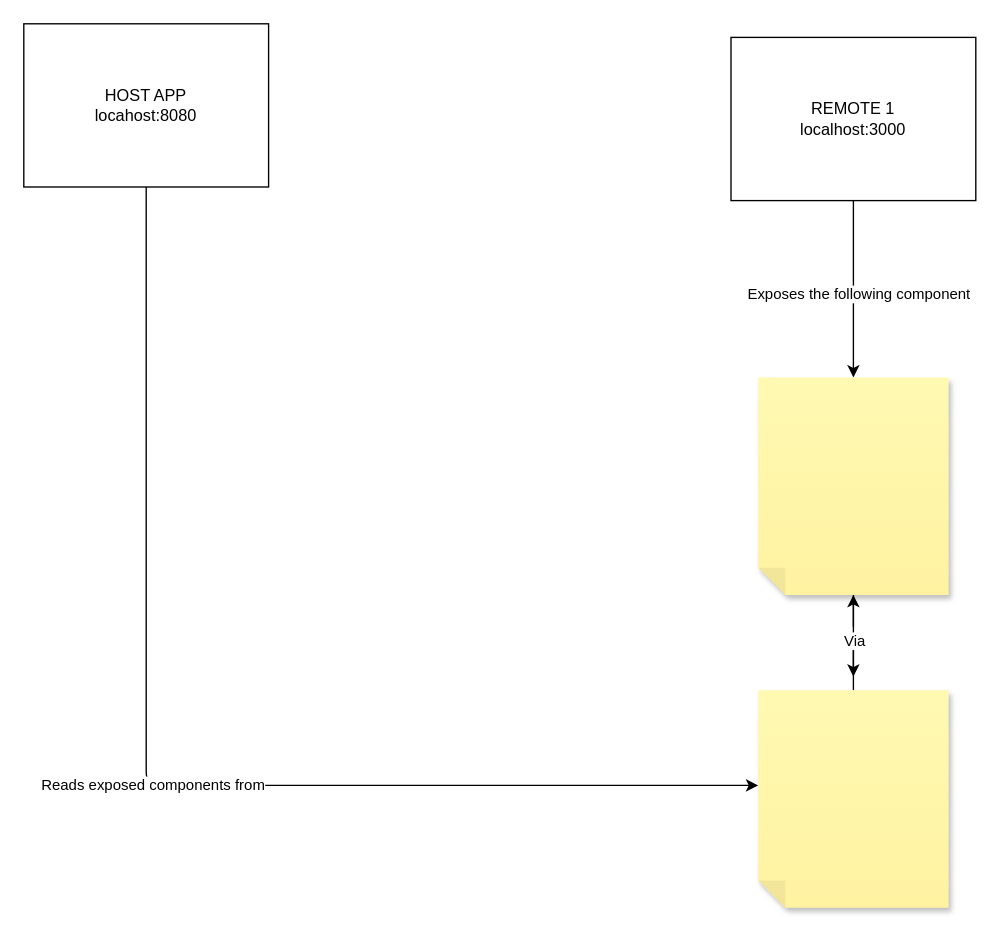
The diagram is 1000 pixels wide and 941 high, and some of its shapes have lost their labels. The centre of each missing label's shape, as x and y in pixels:
Button: [854,487]
remoteEntry.js: [854,800]
